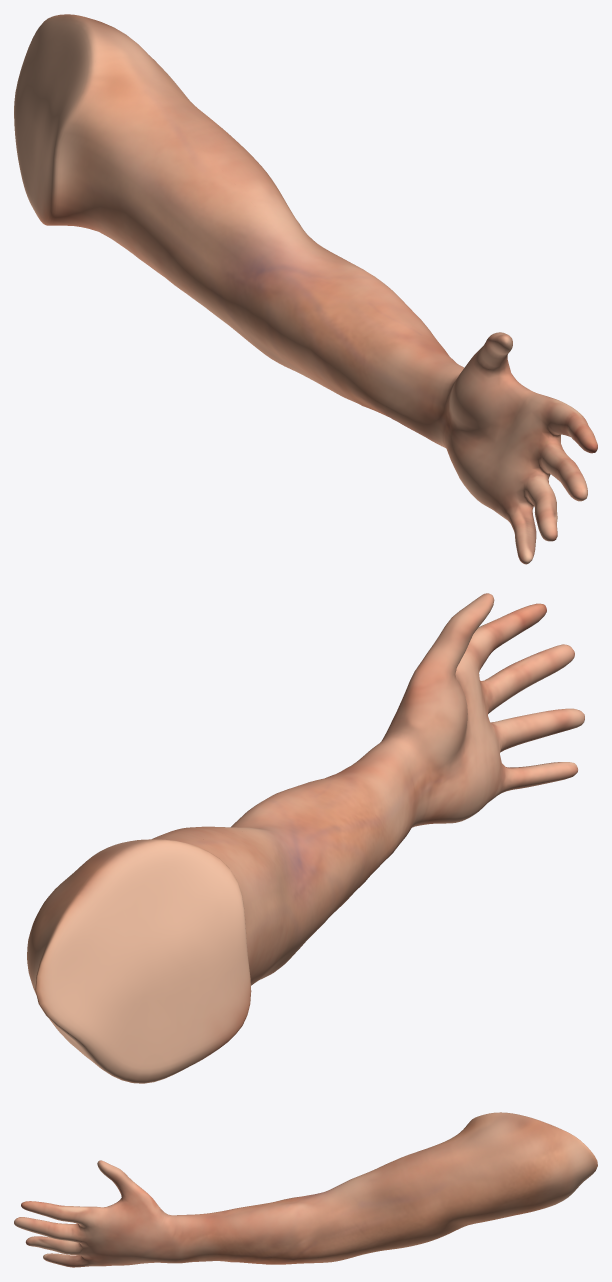
Rendered from left_male_arm.glb.
3 renders of one model, top to bottom at view 1: azimuth 30°, elevation 25°; view 2: azimuth 150°, elevation 25°; view 3: azimuth 270°, elevation 25°, orthographic. The views are drawn at different scales.
Parts seen in each view (by area): view 1: _gltfNode_0; view 2: _gltfNode_0; view 3: _gltfNode_0.
Part boxes in pixels (x1,y1,x2,y2): _gltfNode_0: [14, 14, 597, 564]; _gltfNode_0: [27, 593, 584, 1083]; _gltfNode_0: [14, 1112, 597, 1267].
Size of the model in its own units: 3.61 by 4.72 by 17.87.
1 material, 1 textured.
